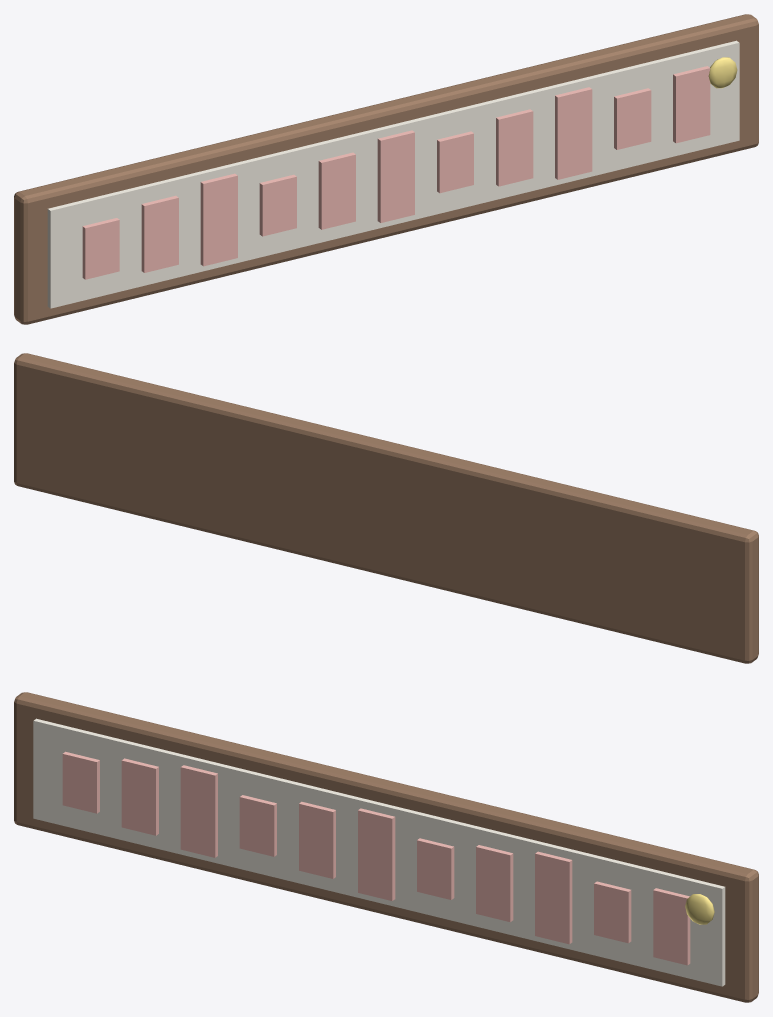
File: placa_residence.glb
3 views of the same model, one above another, from view 1: azimuth 30°, elevation 25°; view 2: azimuth 150°, elevation 25°; view 3: azimuth 330°, elevation 25° (orthographic).
Parts seen in each view (by area): view 1: placa_residence; view 2: placa_residence; view 3: placa_residence.
Boxes of the visible parts, x1,y1,x2,y2 form: placa_residence: (14, 14, 758, 324); placa_residence: (14, 353, 758, 663); placa_residence: (14, 692, 758, 1002).
Bounding box in the file's own units: 3 × 0.5 × 0.138.
